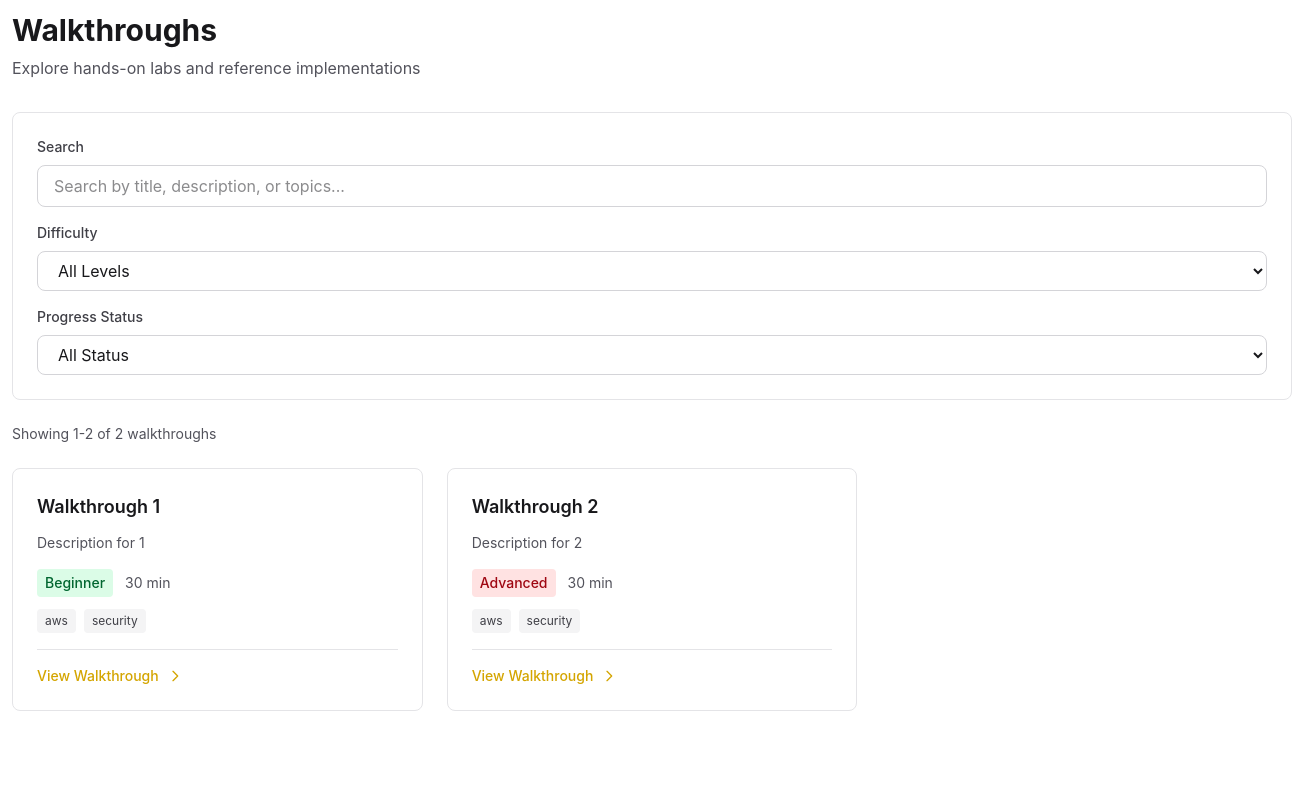
filters by difficulty
Select "Advanced" in the dropdown named "Filter by difficulty" at (652, 271), box 37,251 -> 1267,291
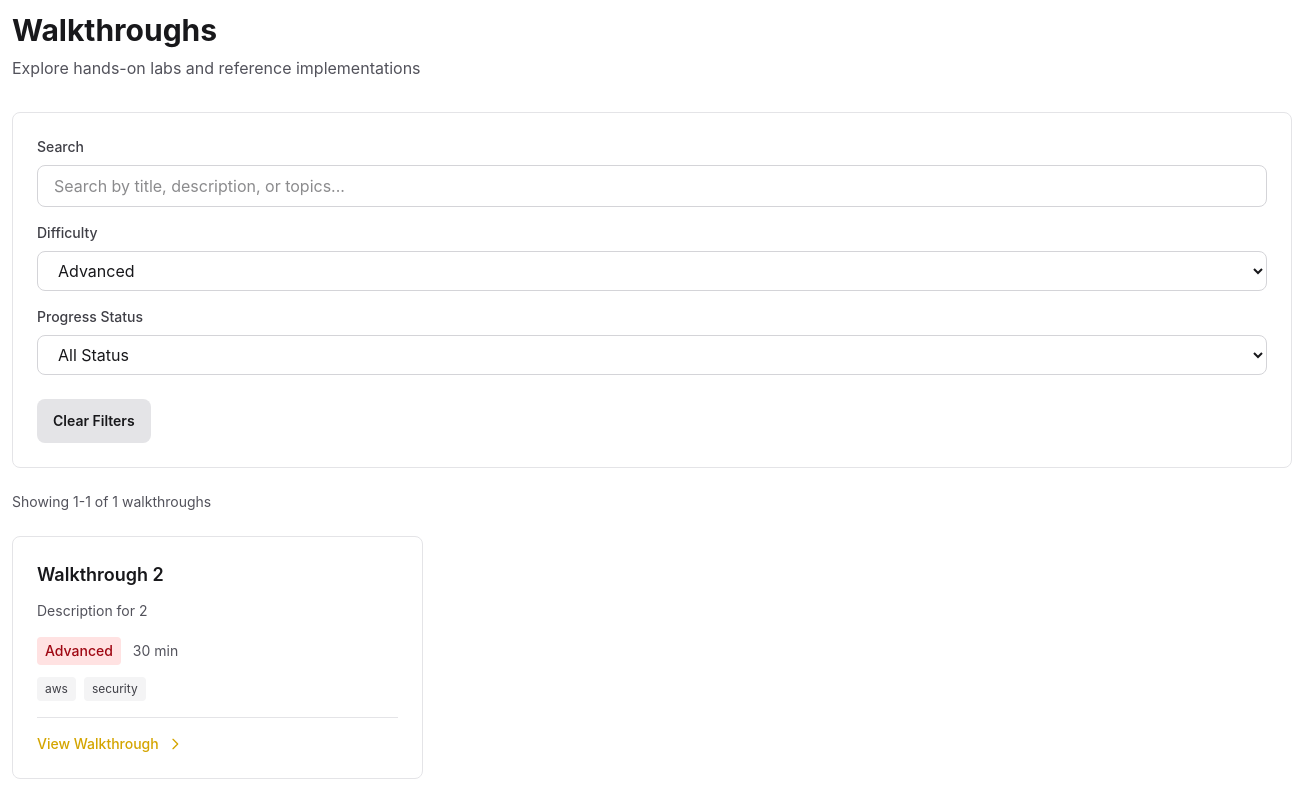
Expected: the heading "Walkthrough 2" is shown, 37,564 -> 164,585
Result: the link "Walkthrough 1" is gone
